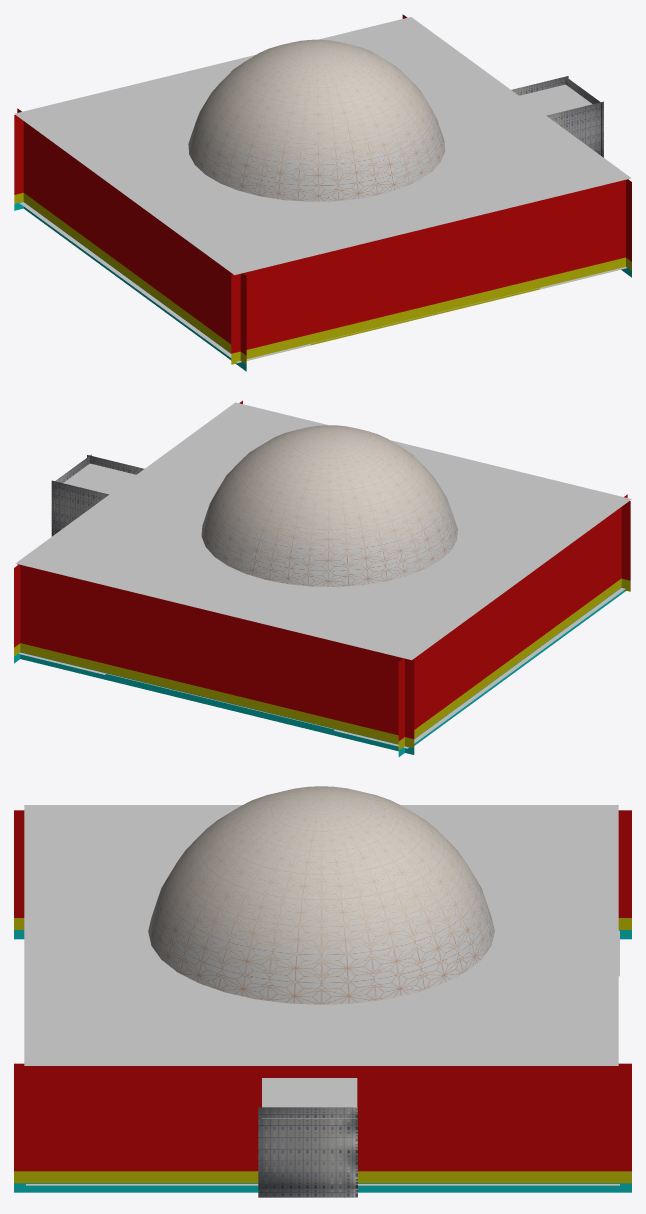
The model's file is suelo_casino_reducido_V2.fbx.
The picture shows the model from 3 angles, top to bottom: view 1: azimuth 30°, elevation 25°; view 2: azimuth 150°, elevation 25°; view 3: azimuth 270°, elevation 25°; orthographic projection. The views are drawn at different scales.
Visible parts, largest first — view 1: Techo_marmol.007, pared madera, Sphere.001, pared madera.001, Plane.003, Plane.001, pared madera.015, parque.006, pared madera.004, parque.004; view 2: Techo_marmol.007, pared madera.015, Sphere.001, pared madera.001, Plane.007, Plane.001, pared madera, pared madera.004, parque.006, parque.004; view 3: Techo_marmol.007, pared madera.004, Sphere.001, Plane.004, pared madera.001, Plane.001.
Boxes of the visible parts, x1,y1,x2,y2 form: Techo_marmol.007: [14, 17, 631, 274]; pared madera: [231, 179, 625, 364]; Sphere.001: [188, 39, 445, 201]; pared madera.001: [17, 108, 246, 371]; Plane.003: [546, 101, 603, 157]; Plane.001: [519, 84, 592, 115]; pared madera.015: [14, 115, 23, 210]; parque.006: [19, 202, 311, 362]; pared madera.004: [402, 14, 631, 277]; parque.004: [70, 239, 188, 324]; Techo_marmol.007: [15, 402, 631, 660]; pared madera.015: [17, 564, 414, 754]; Sphere.001: [201, 425, 457, 586]; pared madera.001: [398, 494, 627, 756]; Plane.007: [51, 480, 108, 536]; Plane.001: [63, 463, 135, 494]; pared madera: [621, 501, 630, 591]; pared madera.004: [14, 400, 242, 663]; parque.006: [334, 588, 625, 748]; parque.004: [456, 625, 574, 709]; Techo_marmol.007: [24, 805, 618, 1065]; pared madera.004: [14, 1063, 631, 1192]; Sphere.001: [148, 786, 494, 1004]; Plane.004: [258, 1107, 357, 1197]; pared madera.001: [14, 810, 631, 939]; Plane.001: [262, 1078, 357, 1118].
Bounding box in the file's own units: 6005 × 2513 × 5200.
